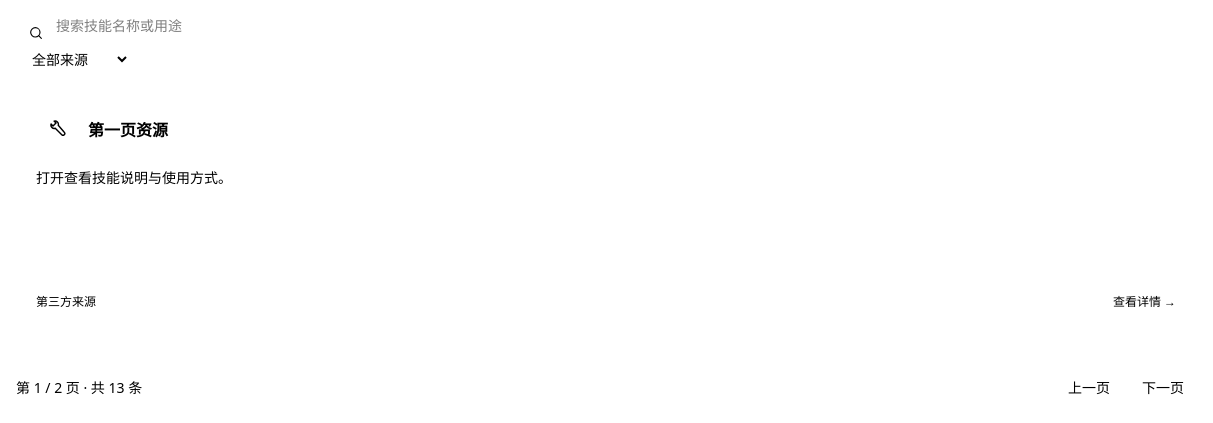
Test case: skills uses server pagination and resets search to page one
This screenshot has width=1213, height=423.
Expected: the heading "第一页资源" is shown, [88,119,168,141]
Expected: the text "第 1 / 2 页 · 共 13 条" is shown, [16,378,142,398]
Click the button "下一页": (1163, 388) [1130,370,1196,406]
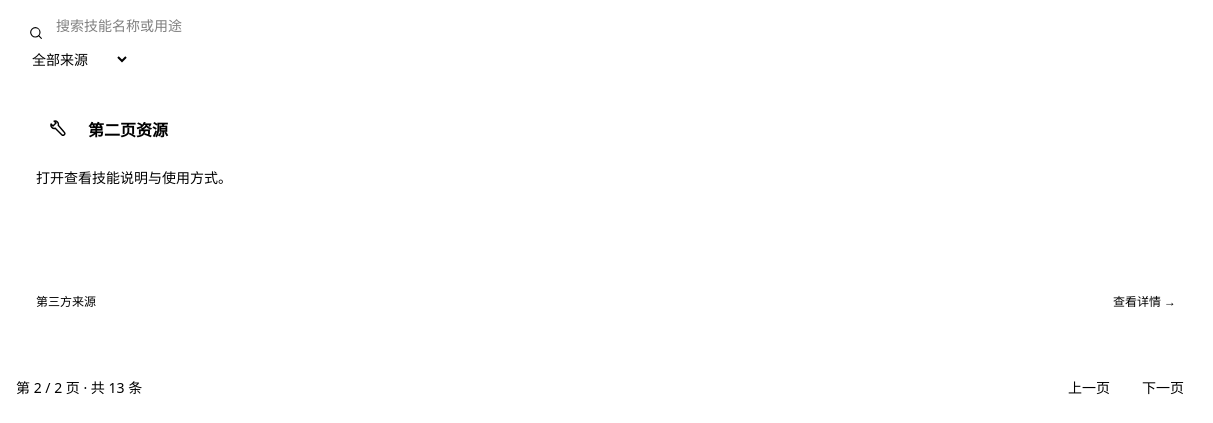
Expected: the heading "第二页资源" is shown, [88,119,168,141]
In the field named "搜索技能库": (606, 26) [16,16,1196,36], type "报告"
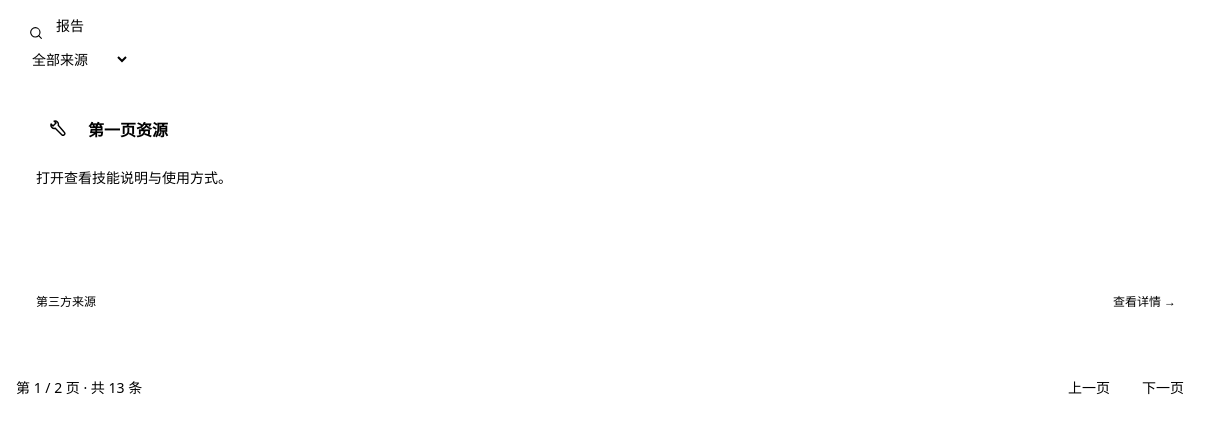
Expected: the heading "第一页资源" is shown, [88,119,168,141]
Click the button "下一页": (1163, 388) [1130,370,1196,406]
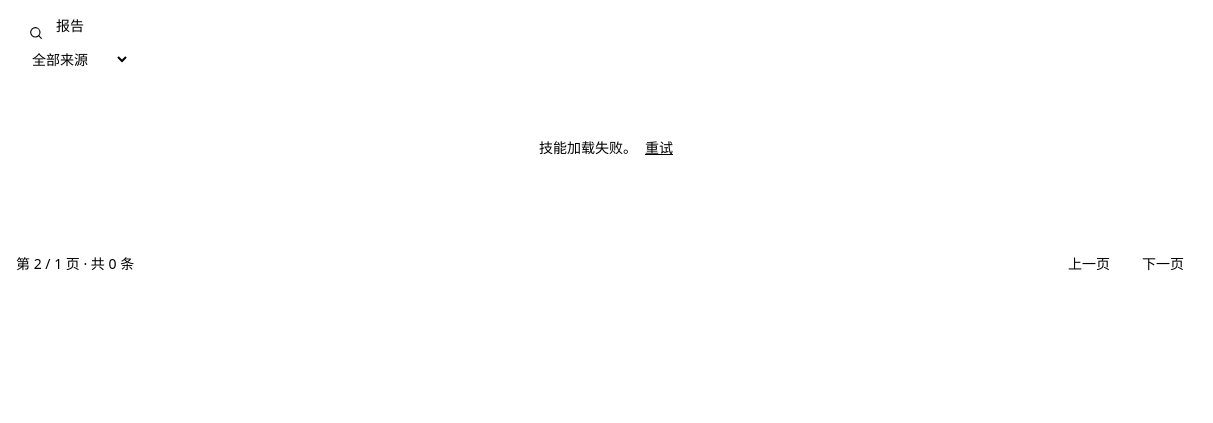
Expected: the message "技能加载失败。 重试" is shown, [539,138,673,158]
Click the button "重试": (659, 148) [645,138,673,158]
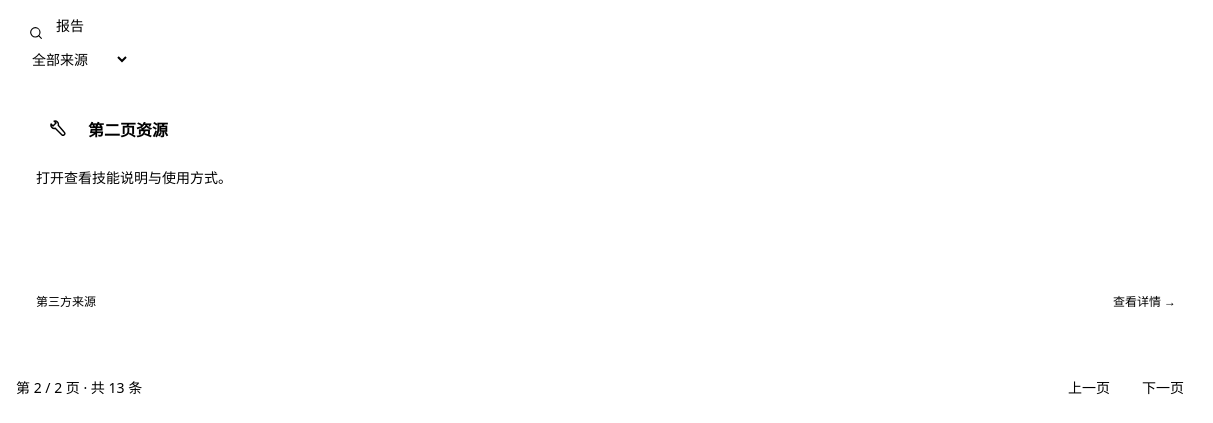
Expected: the heading "第二页资源" is shown, [88,119,168,141]
